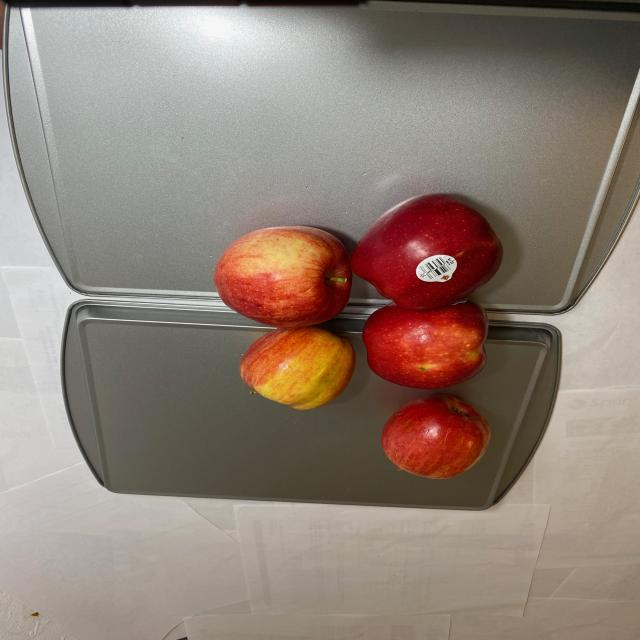apple: (212, 191, 502, 481)
